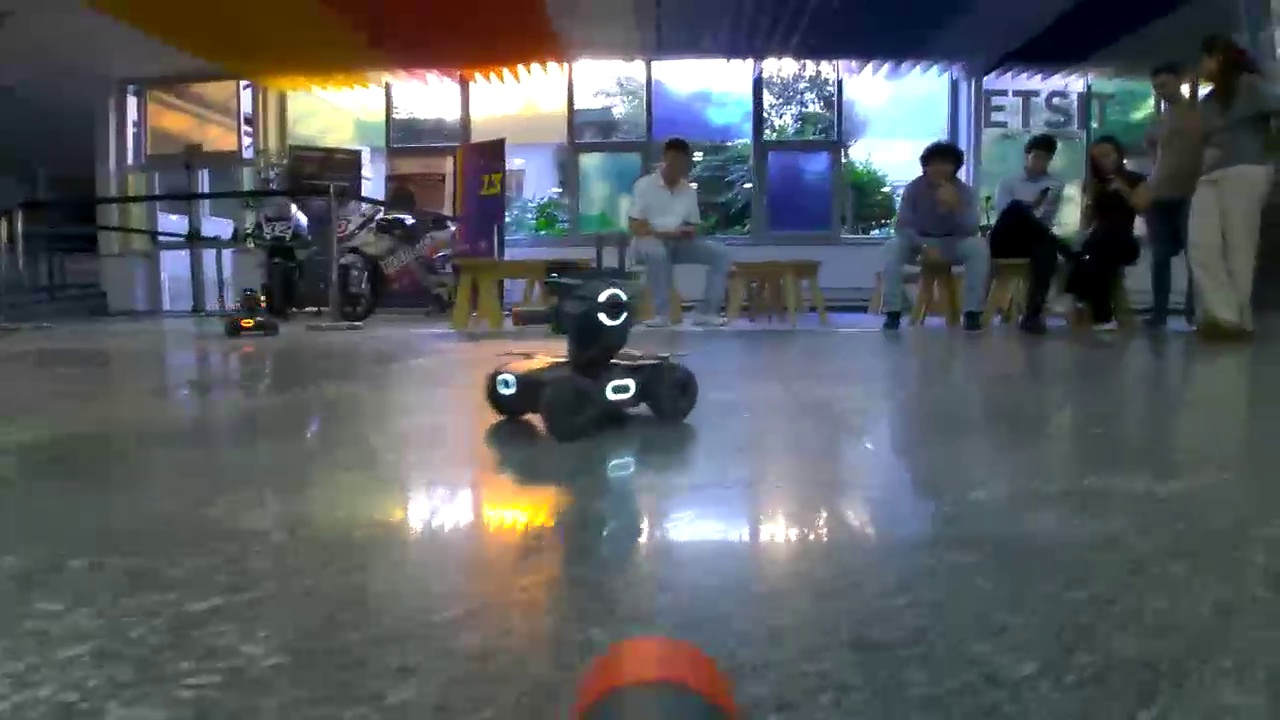robot: (487, 285, 698, 442), (222, 290, 282, 336)
